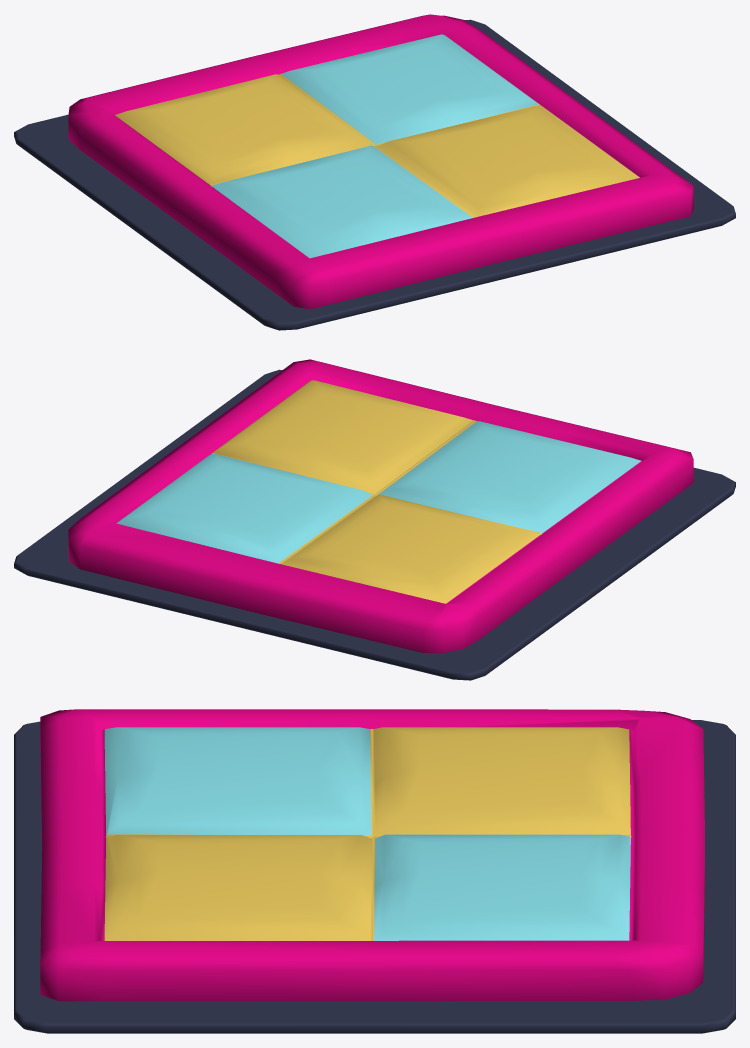
File: CatapultaBase.fbx
3 views of the same model, one above another, from view 1: azimuth 30°, elevation 25°; view 2: azimuth 150°, elevation 25°; view 3: azimuth 270°, elevation 25° (orthographic). The views are drawn at different scales.
Parts seen in each view (by area): view 1: base3, pCube1; view 2: base3, pCube1; view 3: base3, pCube1.
Part boxes in pixels (x1,y1,x2,y2): base3: (68,14,693,309); pCube1: (14,19,735,330); base3: (68,359,693,653); pCube1: (14,369,735,680); base3: (40,709,704,1001); pCube1: (14,720,735,1033).
Bounding box in the file's own units: 1293 × 159 × 1293.
